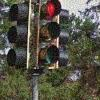traffic lights: (37, 0, 62, 69)
